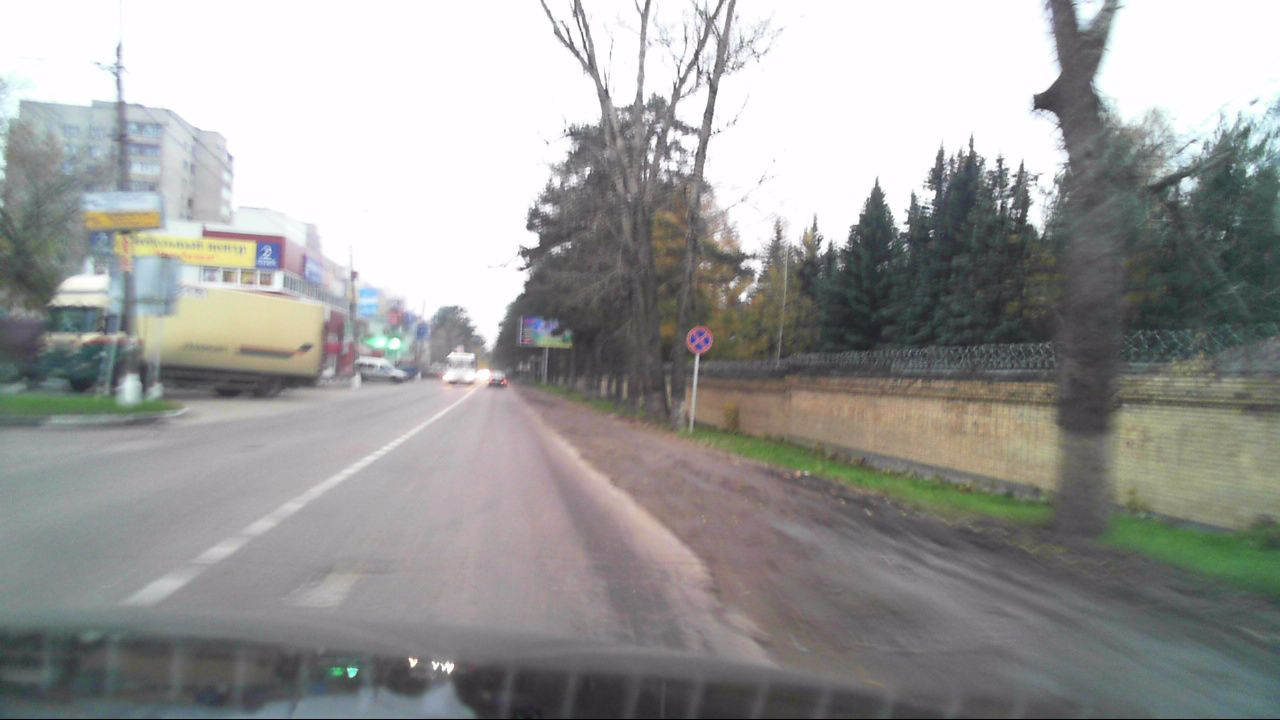No Parking: (686, 325, 713, 352)
